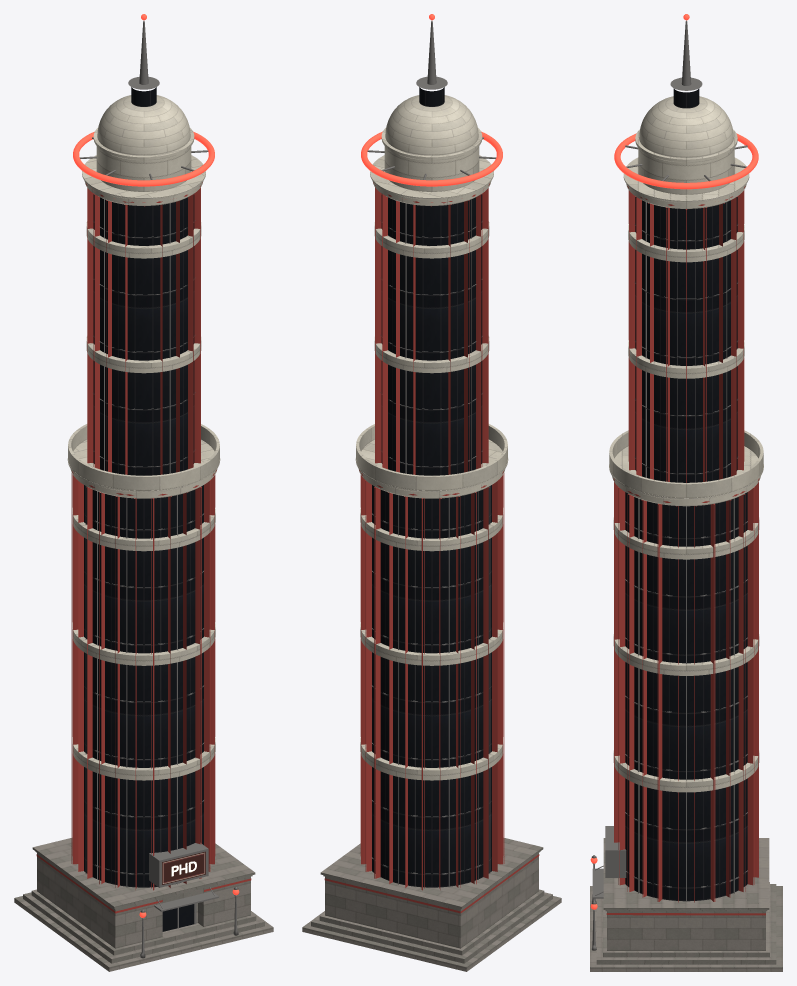
File: public-health-dao.glb
The picture shows the model from 3 angles, left to right: view 1: azimuth 30°, elevation 25°; view 2: azimuth 150°, elevation 25°; view 3: azimuth 270°, elevation 25°; orthographic projection.
Parts seen in each view (by area): view 1: Landmark · Public Health DAO; view 2: Landmark · Public Health DAO; view 3: Landmark · Public Health DAO.
Boxes of the visible parts, x1,y1,x2,y2 form: Landmark · Public Health DAO: (14, 14, 273, 971); Landmark · Public Health DAO: (302, 14, 561, 971); Landmark · Public Health DAO: (590, 14, 782, 971).
Bounding box in the file's own units: 12 × 63 × 12.
Materials: 7 (4 with a texture image).
